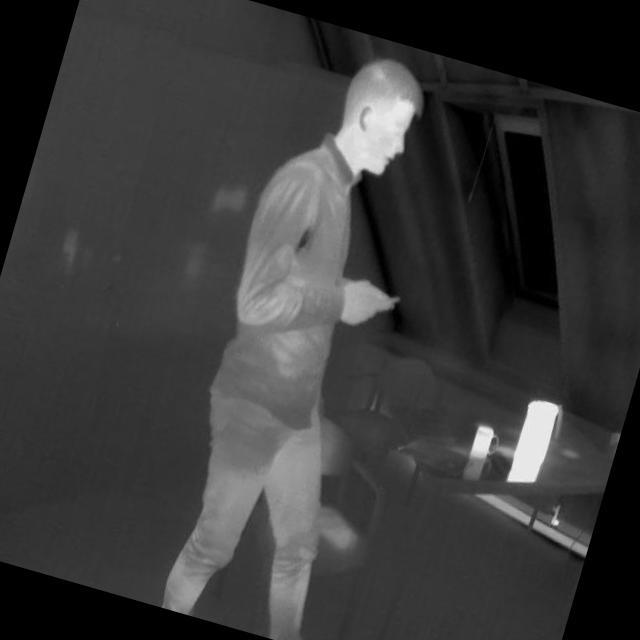person: (138, 27, 508, 640)
